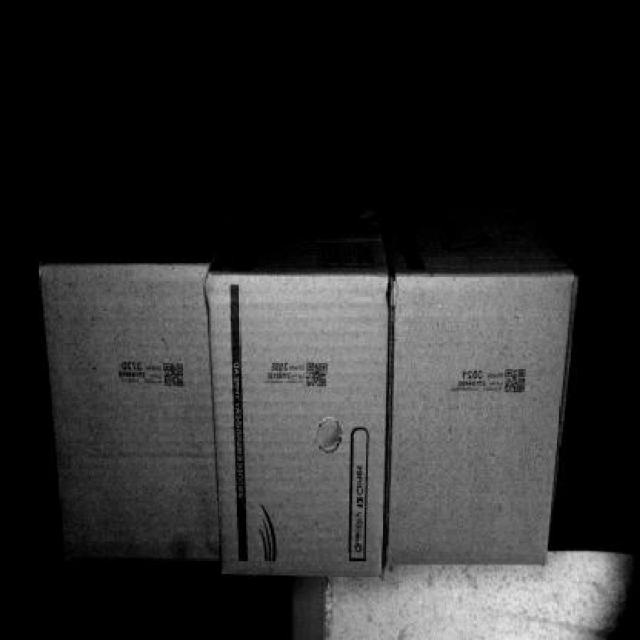cardboxes: (383, 272, 574, 571), (214, 278, 383, 582), (47, 270, 202, 568)
